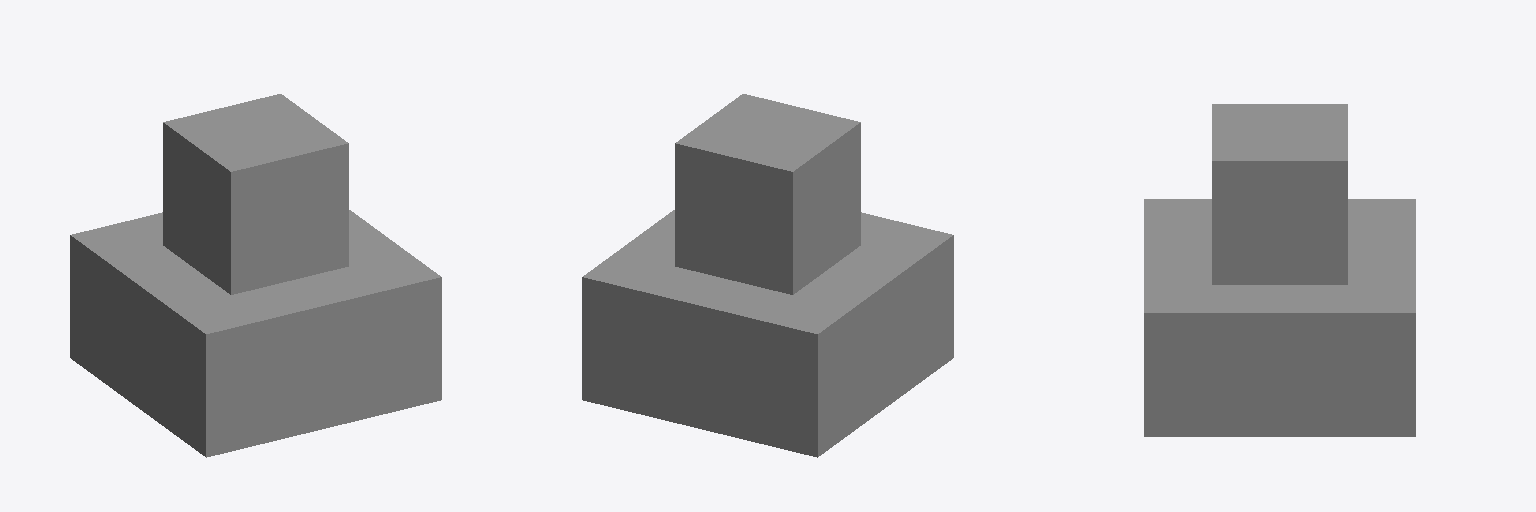
File: iondisperser.obj
3 renders of one model, left to right at view 1: azimuth 30°, elevation 25°; view 2: azimuth 150°, elevation 25°; view 3: azimuth 270°, elevation 25°, orthographic.
Visible parts, largest first — view 1: Cube; view 2: Cube; view 3: Cube.
Boxes of the visible parts, <box> form: Cube: <box>70,94,441,457</box>; Cube: <box>582,94,953,457</box>; Cube: <box>1144,104,1415,436</box>.
Bounding box in the file's own units: 1 × 1 × 1.